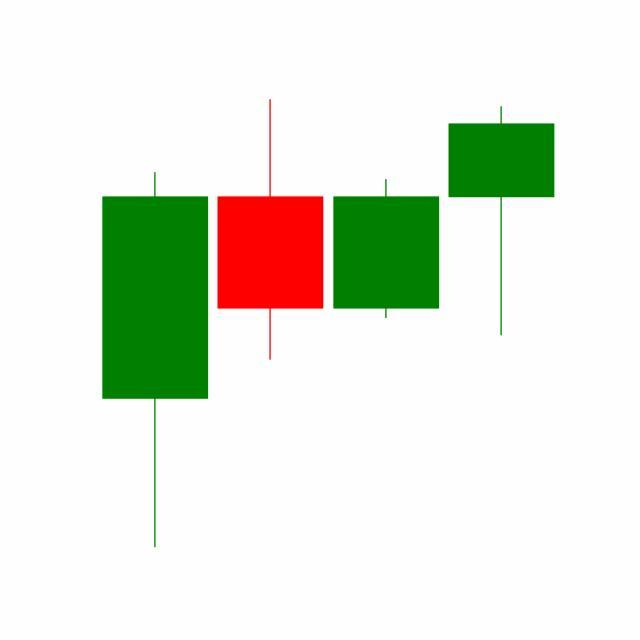Marubozu: (329, 178, 445, 320)
